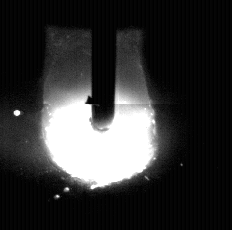arame: (93, 0, 115, 133)
poca: (41, 0, 158, 230)
